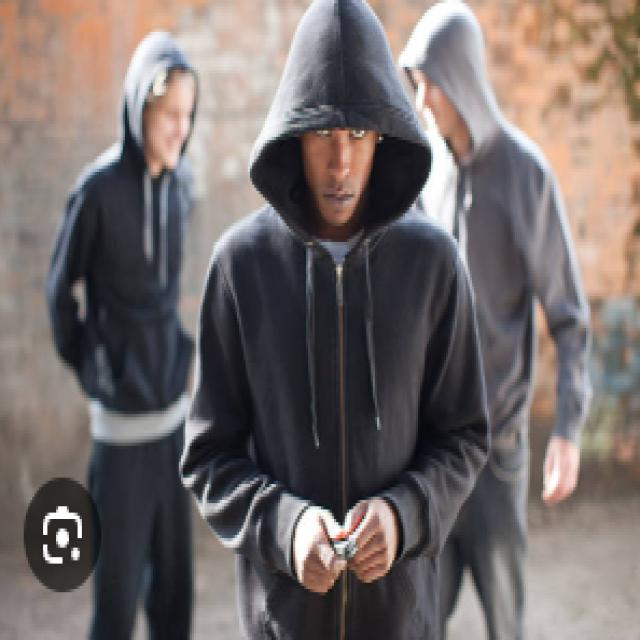4_capucha: (248, 0, 432, 269)
